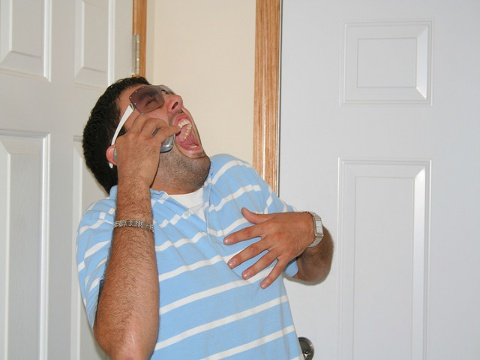hand: (223, 206, 310, 290)
